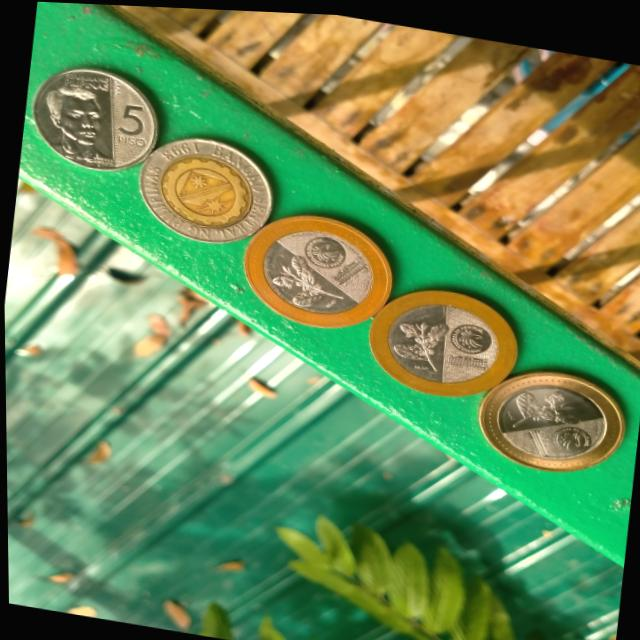10_Old_Back: (130, 125, 279, 249)
20_New_Back: (379, 286, 459, 391), (268, 242, 362, 320)
5_New_Front: (98, 91, 154, 149)
